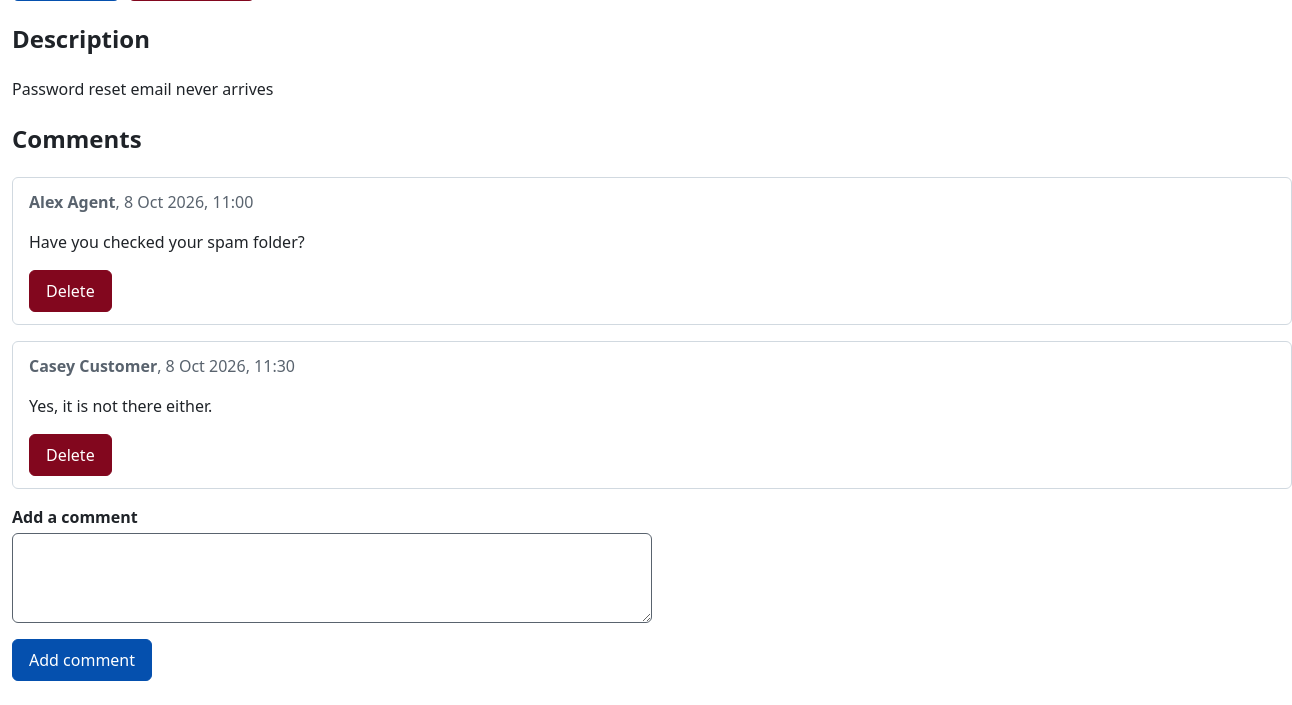
TicketDetailPage › comments › adds a new comment to the list and empties the box
The width and height of the screenshot is (1292, 705).
(page scrolled)
Type "Fixed, thanks!" into the text box labelled "Add a comment".
click(332, 578); type("Fixed, thanks!")  # box [12,532,652,622]
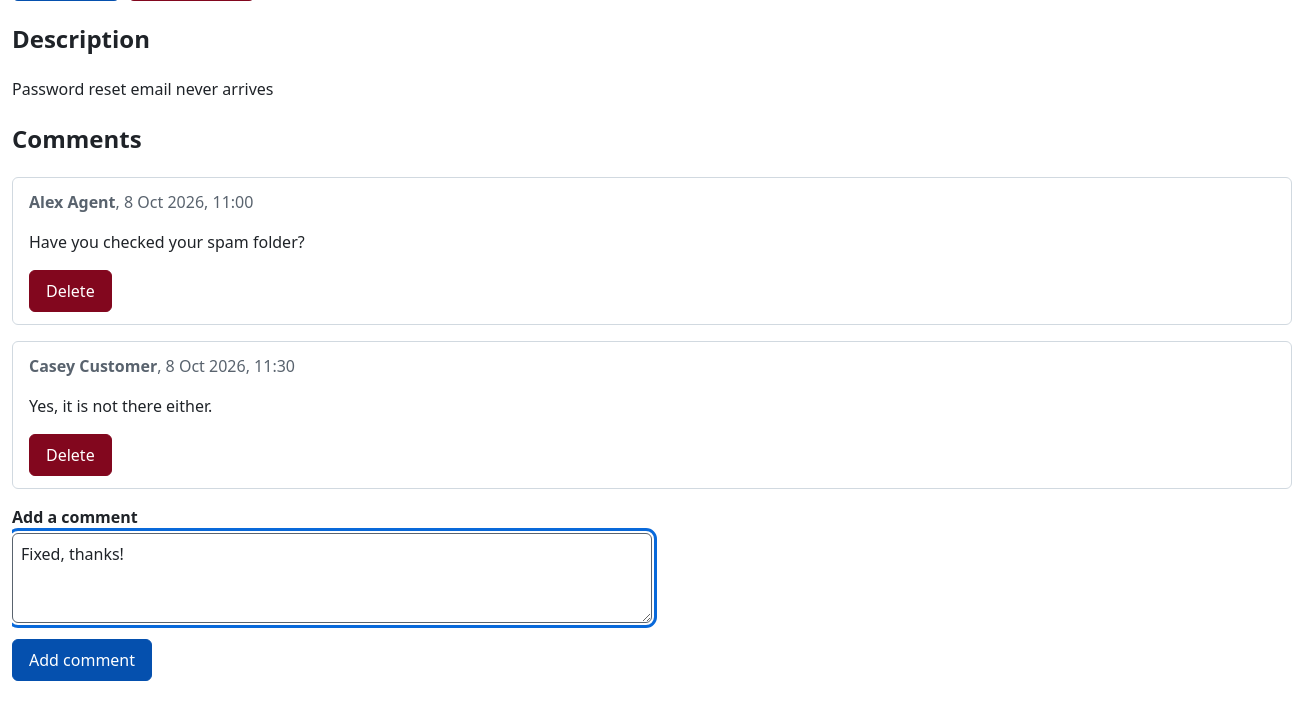
Click the button "Add comment".
click(82, 660)  # box [12,638,152,680]
(page scrolled)
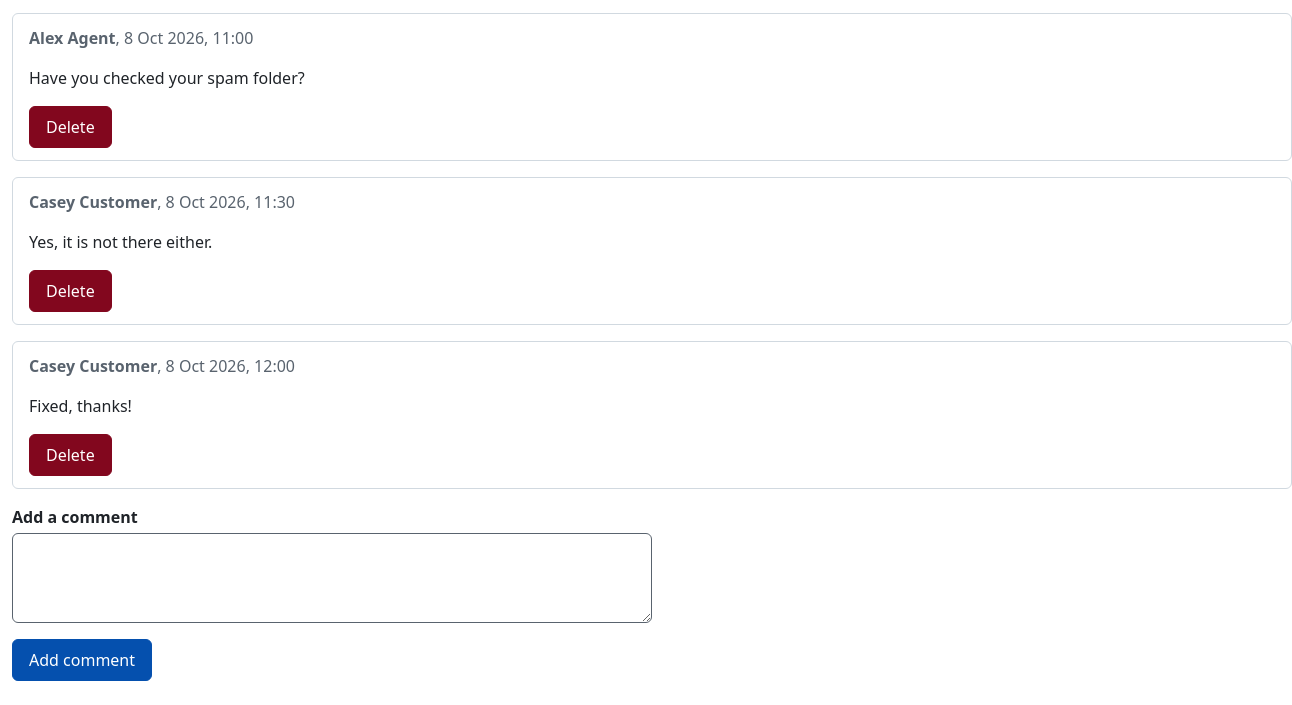
Now the text "Fixed, thanks!" is shown, box [29,394,132,416]
Now the number of list items is 3, box [12,12,1291,160]; [12,176,1291,324]; [12,340,1291,488]
Now the text box labelled "Add a comment" is empty, box [12,532,652,622]
